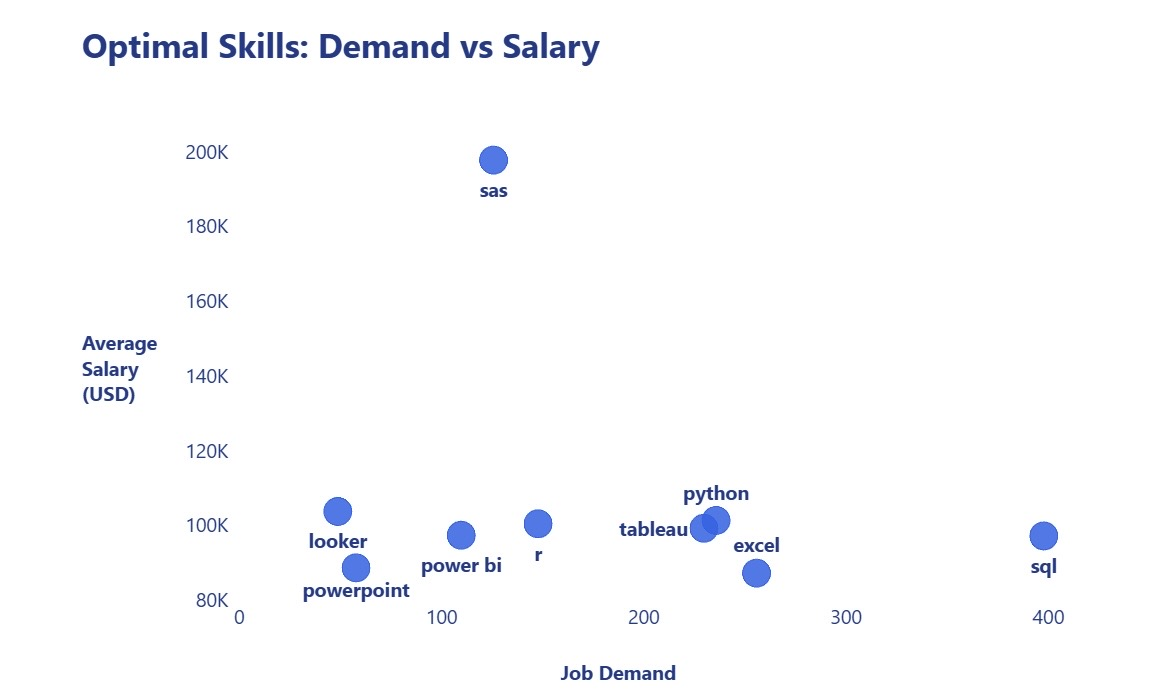

The page's visual inventory and layout, read from the dashboard file:
{"tool":"powerbi","page":{"name":"Query 5","canvas":[1280,720],"ordinal":4},"visuals":[{"type":"scatterChart","fields":{"X":["Sum(5_optimal_skills.demand_count)"],"Y":["Sum(5_optimal_skills.avg_salary)"],"Category":["5_optimal_skills.skills"]},"box":[230,115.7,887.1,515.7],"z":0},{"type":"textbox","box":[132.9,35.7,594.3,58.6],"z":1000},{"type":"textbox","box":[588.6,642.9,242.9,45.7],"z":2000},{"type":"textbox","box":[132.9,328.6,82.9,90],"z":3000}]}

Visuals, with their boxes on the page's 1280x720 design canvas (x1, y1, x2, y2). These are canvas units, not pixel positions in the 1151x700 screenshot, which may show the page scaled, cropped or inside an application window:
scatterChart - Sum(5_optimal_skills.demand_count) x Sum(5_optimal_skills.avg_salary): 230:116:1117:631
textbox: 133:36:727:94
textbox: 589:643:832:689
textbox: 133:329:216:419
